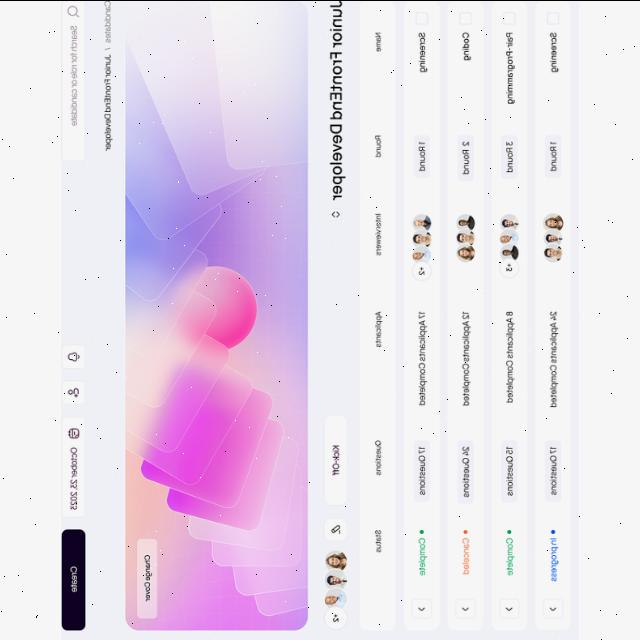QLabel: (329, 1, 347, 200), (332, 443, 340, 475), (70, 565, 78, 591)
VAvatar: (324, 549, 348, 629)
VBreadcrumbs: (103, 0, 113, 150)
VBtn: (61, 528, 85, 630), (324, 413, 348, 503)
VDataTable: (358, 0, 574, 628)
VIcon: (68, 351, 80, 361), (332, 524, 341, 534), (68, 388, 78, 397)
VImg: (125, 1, 309, 630)
VInlineDatepicker: (61, 414, 85, 516)
VTextField: (61, 0, 85, 160)
